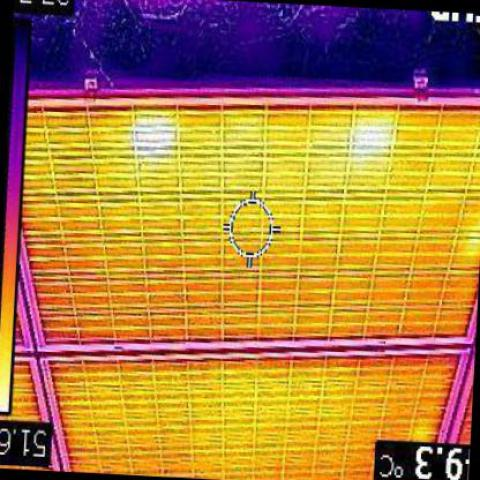fault: (132, 111, 174, 154), (352, 114, 388, 148)
